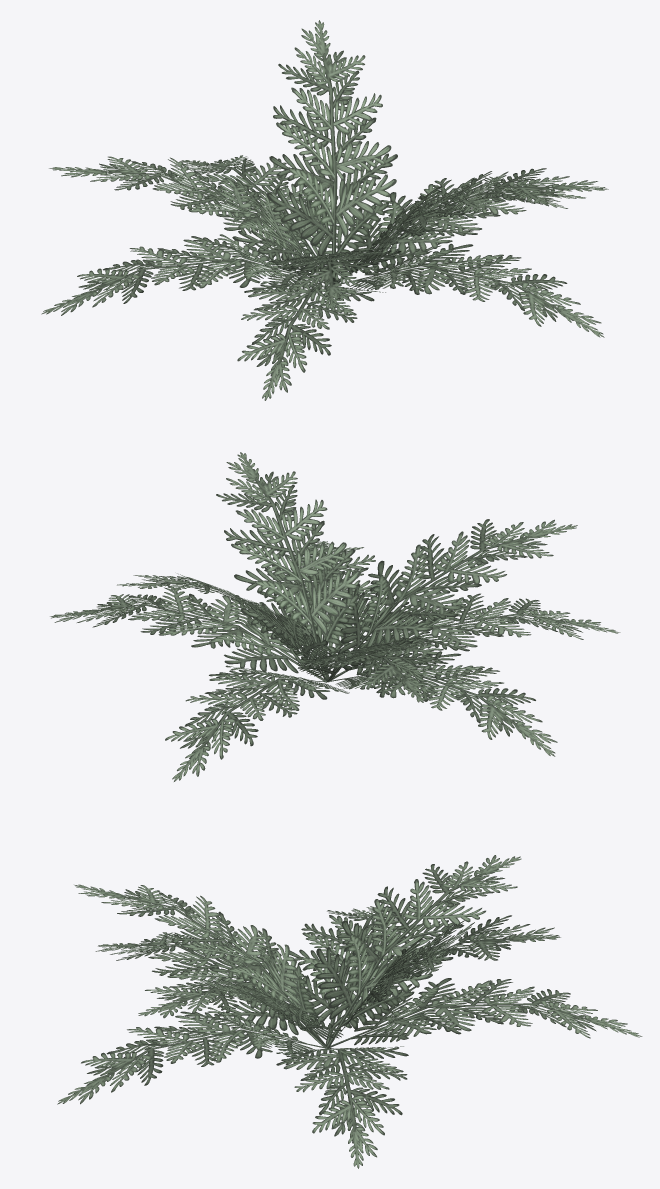
Rendered from Fern_02.fbx.
3 views of the same model, one above another, from view 1: azimuth 30°, elevation 25°; view 2: azimuth 150°, elevation 25°; view 3: azimuth 270°, elevation 25° (orthographic). The views are drawn at different scales.
Parts seen in each view (by area): view 1: polySurface1; view 2: polySurface1; view 3: polySurface1.
Part boxes in pixels (x1,y1,x2,y2): polySurface1: (41, 20, 608, 400); polySurface1: (50, 452, 620, 781); polySurface1: (57, 855, 642, 1168).
Bounding box in the file's own units: 4.1 × 1.24 × 3.97.
